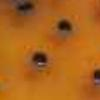black: (30, 46, 50, 74), (51, 17, 73, 35), (14, 1, 38, 15), (90, 66, 100, 87)
